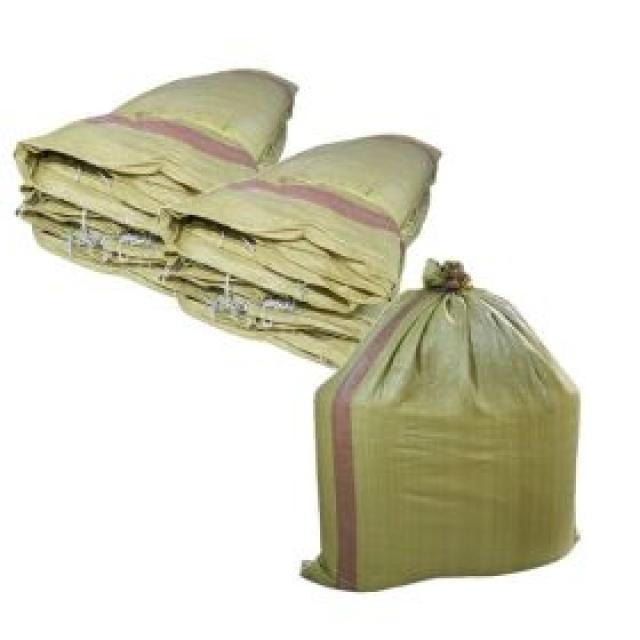PP bag: (11, 47, 440, 362), (305, 258, 593, 589)
